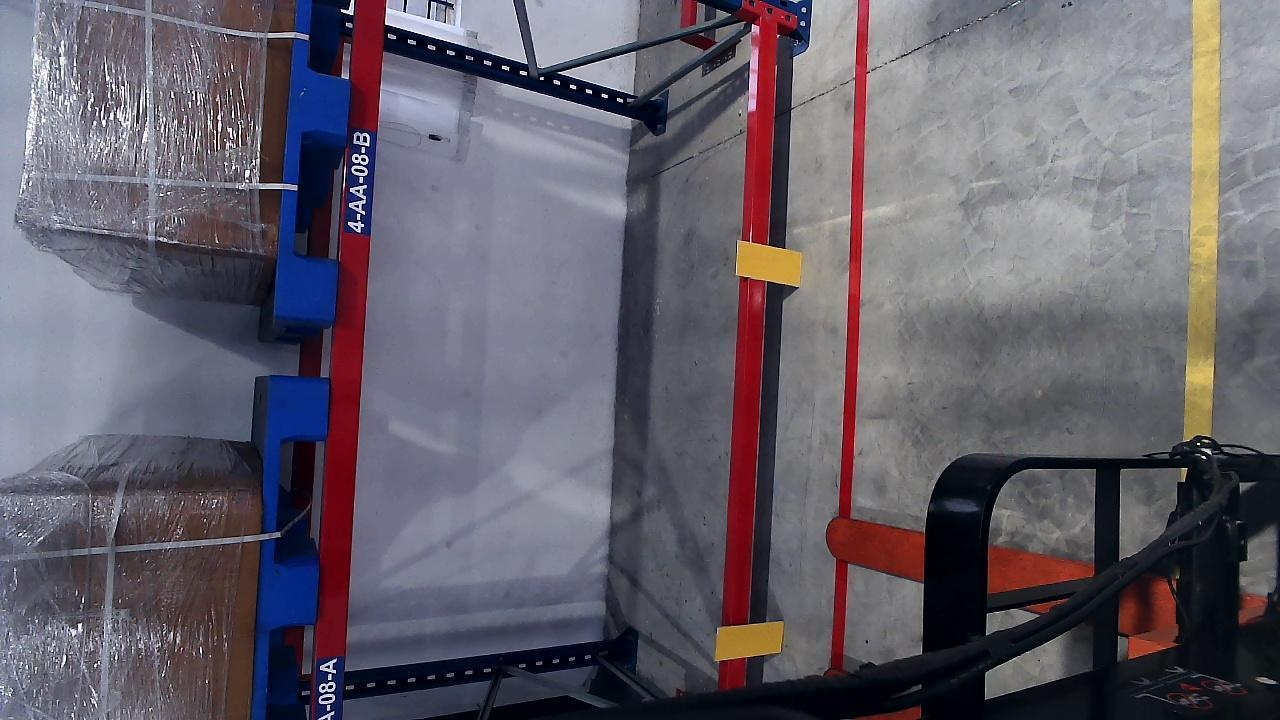red_line: (828, 1, 870, 665)
yellow_line: (1181, 0, 1221, 440)
